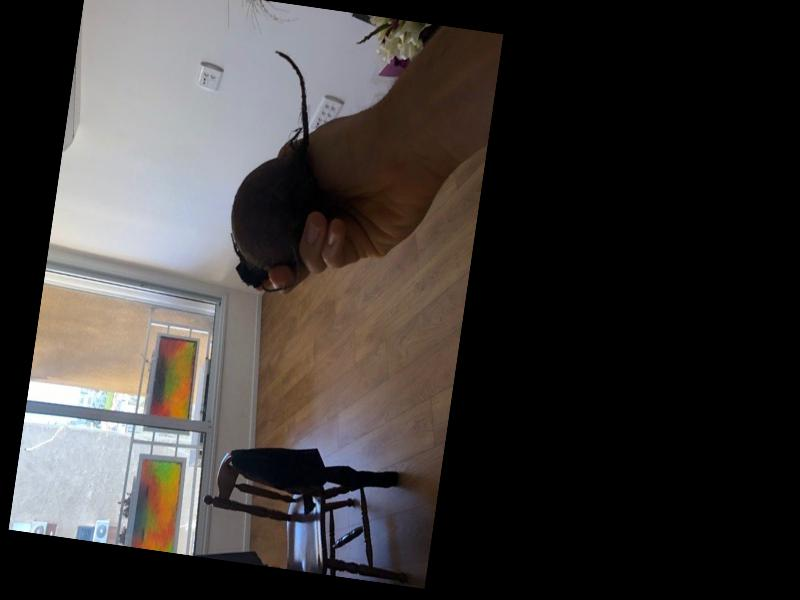Beet: (221, 49, 333, 298)
